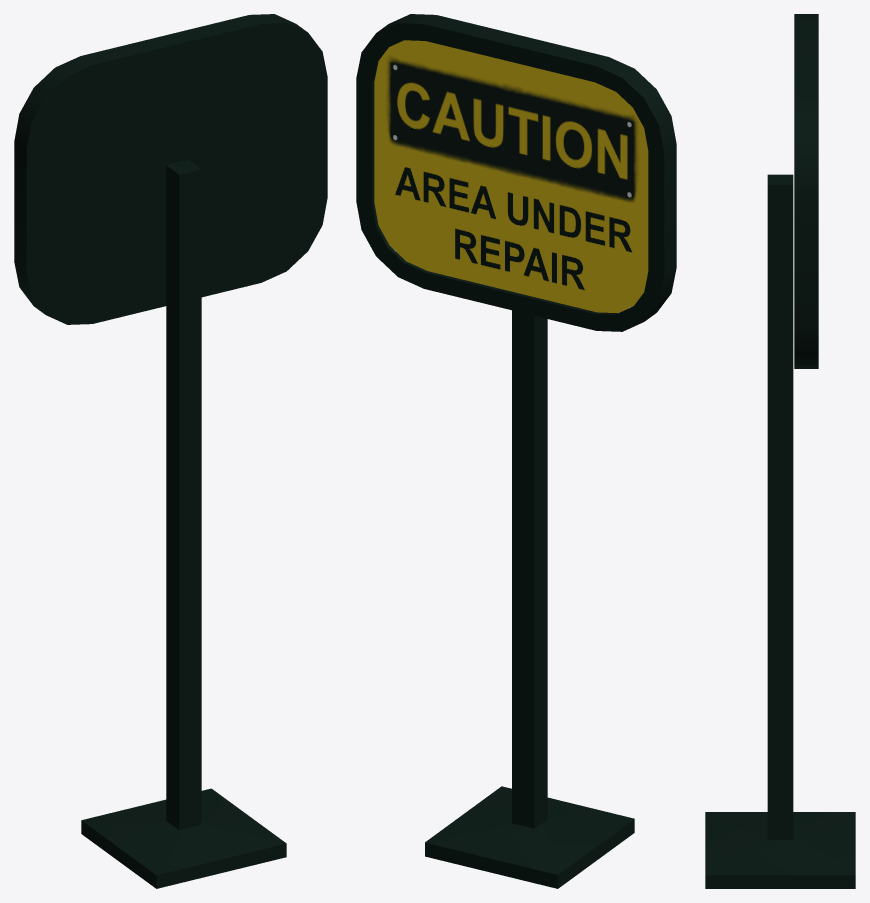
File: billboard_001.glb
3 renders of one model, left to right at view 1: azimuth 30°, elevation 25°; view 2: azimuth 150°, elevation 25°; view 3: azimuth 270°, elevation 25°, orthographic. The views are drawn at different scales.
Parts seen in each view (by area): view 1: billboard.001; view 2: billboard.001; view 3: billboard.001.
Part boxes in pixels (left/top/right/bottom): billboard.001: left=14, top=14, right=327, bottom=888; billboard.001: left=356, top=14, right=676, bottom=888; billboard.001: left=705, top=14, right=855, bottom=888.
Size of the model in its own units: 0.818 by 2.07 by 0.3537.
1 material, 1 textured.
